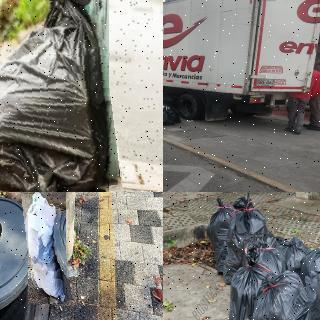Garbage: (0, 0, 115, 192), (24, 192, 69, 304), (225, 195, 267, 279), (253, 269, 318, 320), (228, 250, 274, 320), (208, 198, 246, 272), (282, 234, 312, 271), (301, 234, 320, 291), (166, 106, 183, 124), (163, 112, 175, 125), (163, 103, 166, 112)
